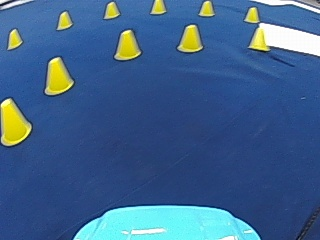cone: (0, 96, 31, 145), (43, 55, 74, 94), (113, 29, 141, 60), (177, 23, 203, 52), (248, 26, 268, 50), (7, 28, 23, 49), (56, 10, 72, 30), (103, 1, 120, 19), (198, 0, 214, 17), (244, 6, 259, 23), (150, 0, 165, 14)
